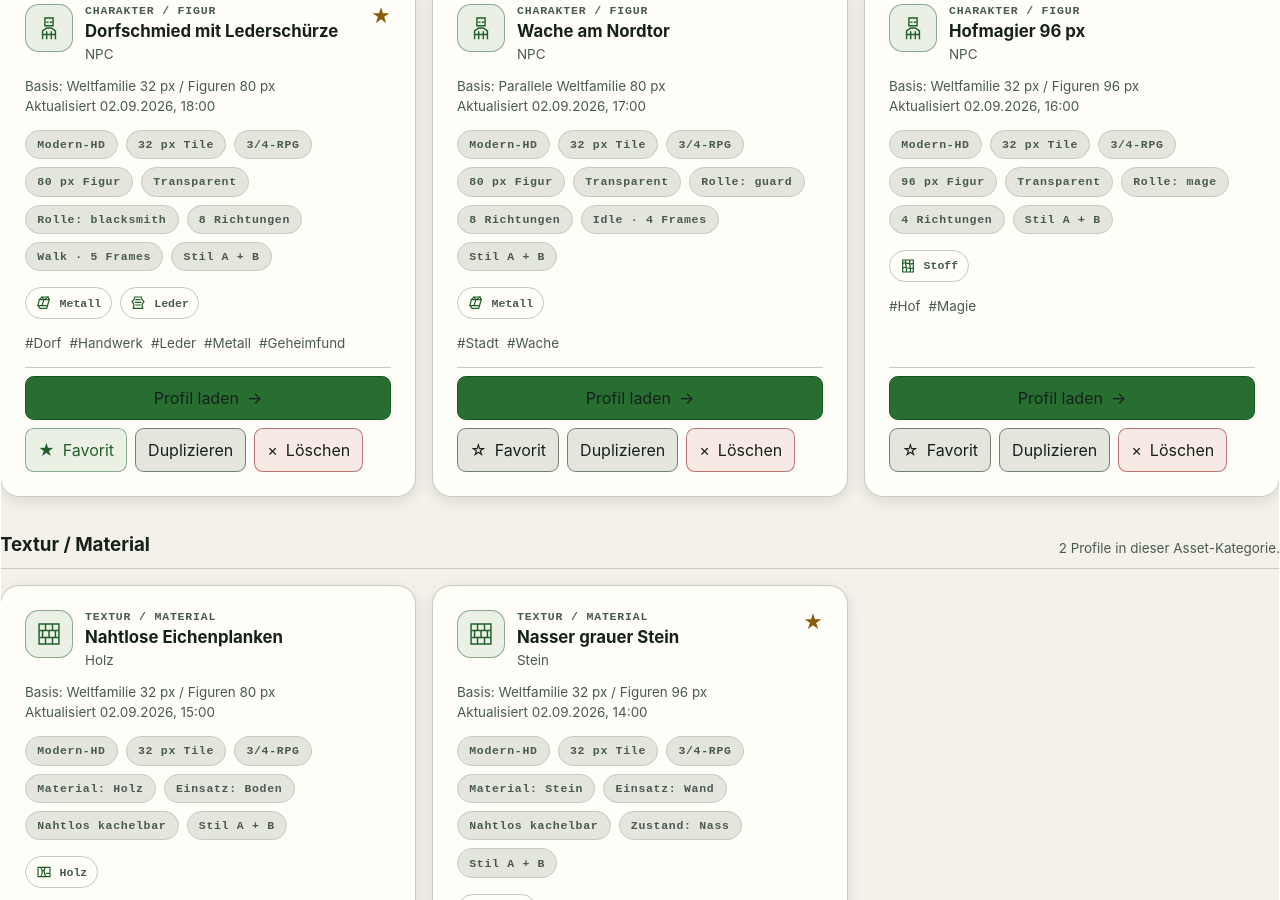
it: profile library user flows › deletes only after confirmation and moves focus to the results heading
The width and height of the screenshot is (1280, 900).
(page scrolled)
Click the button with aria-label "Profil „Wache am Nordtor“ löschen" at (741, 450), box [686,428,795,472]
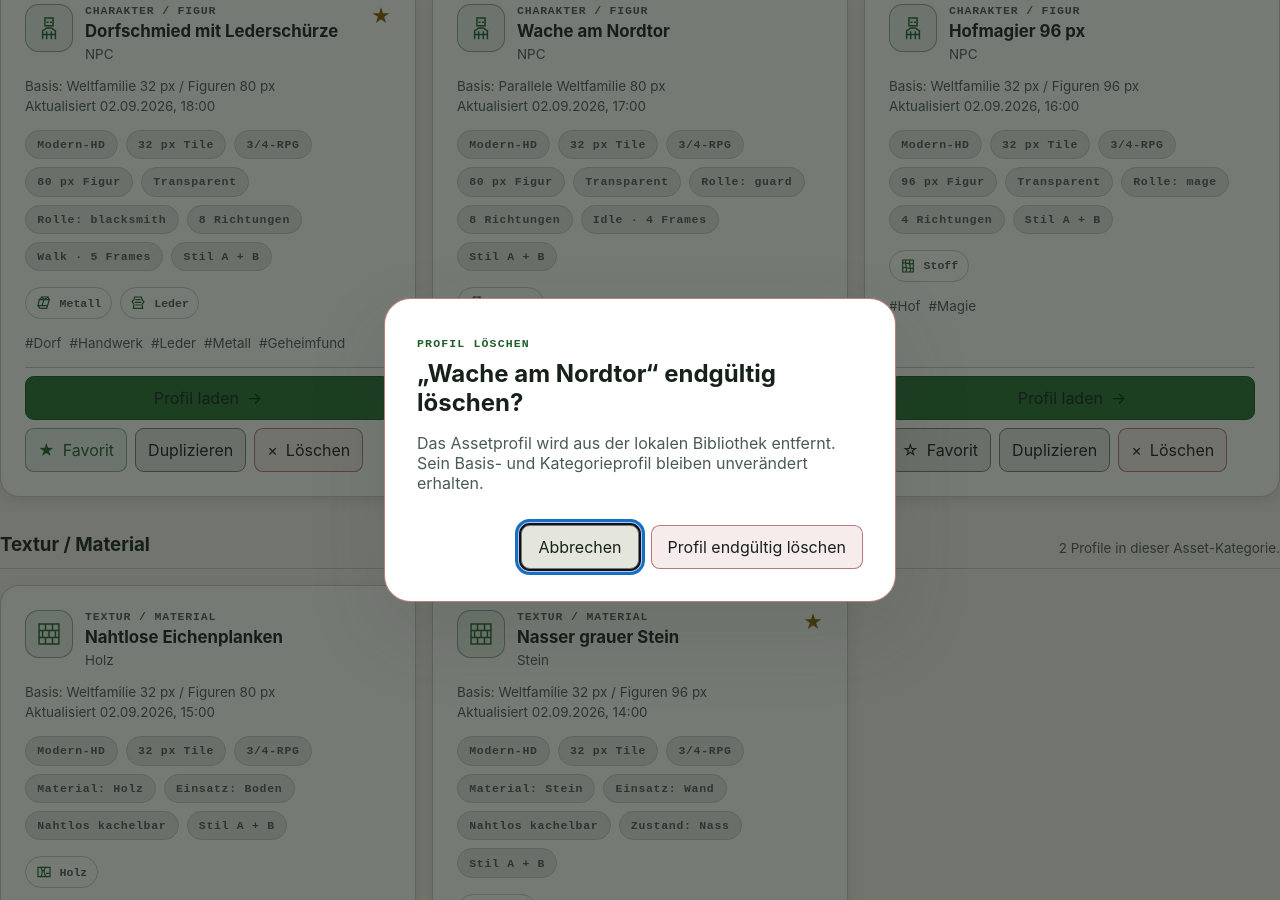
Click the button "Profil endgültig löschen" at (757, 547), box [651,525,863,569]
(page scrolled)
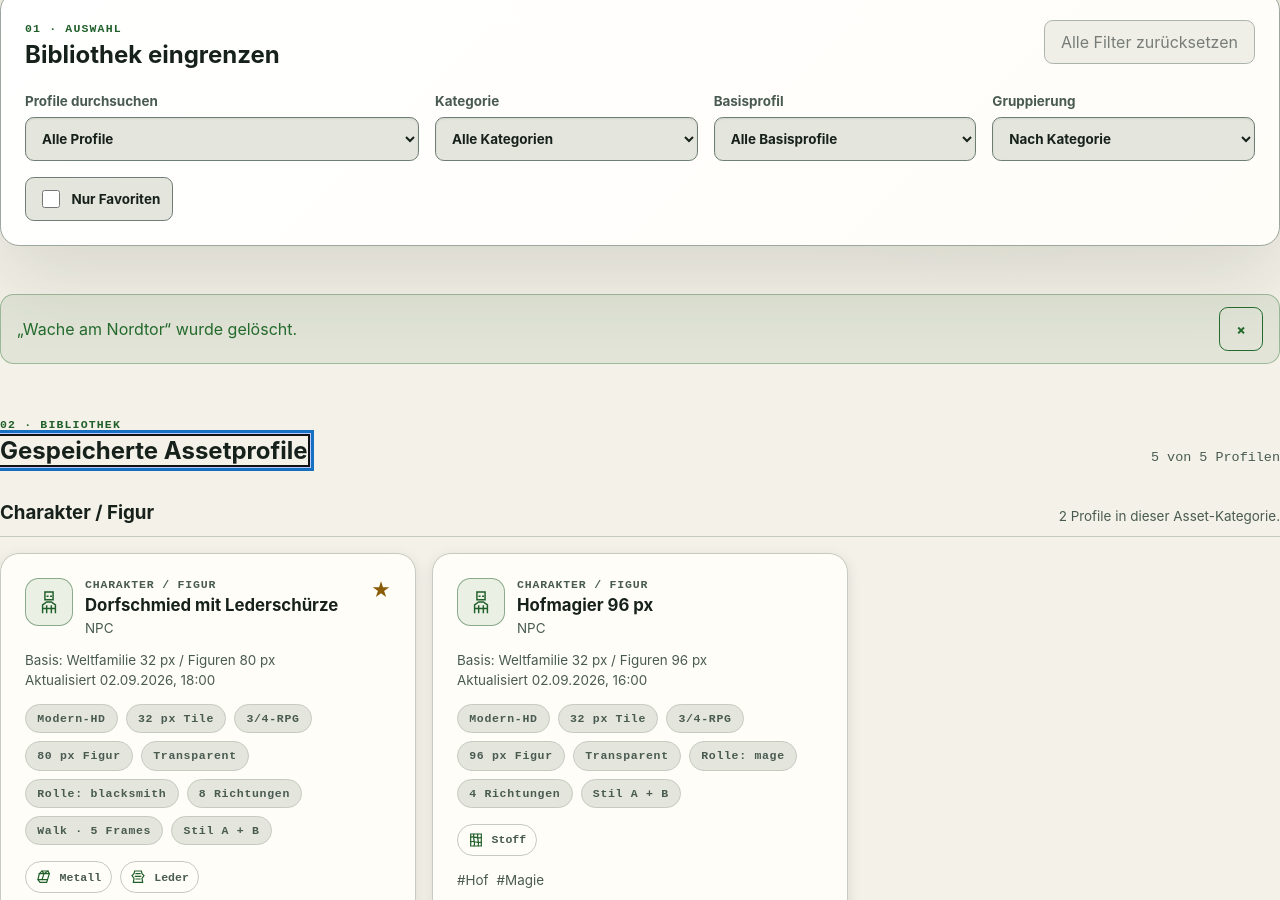
Expected: the dialog is gone
Expected: the text "„Wache am Nordtor“ wurde gelöscht." is shown, [17,319,297,339]
